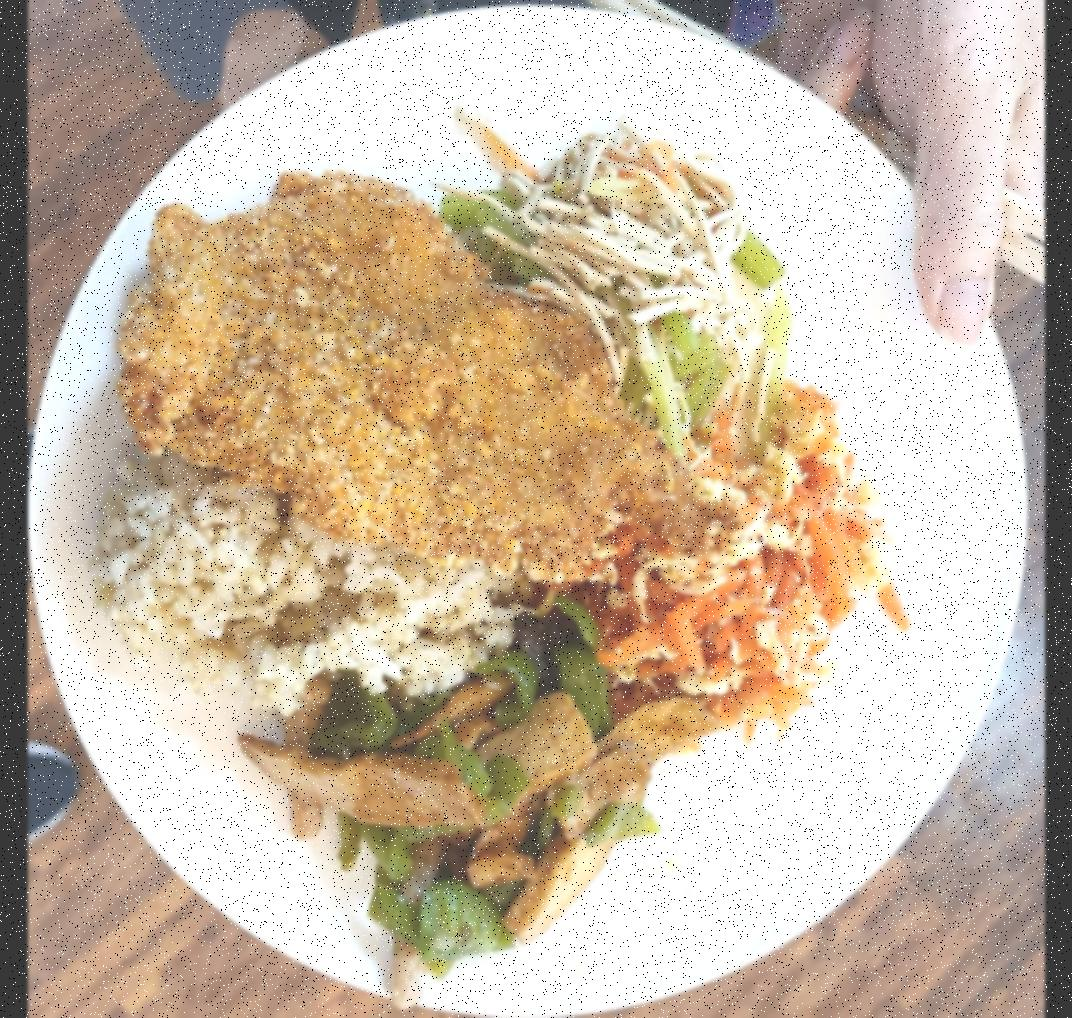big fried chicken leg: (27, 0, 1035, 1018)
box: (98, 470, 510, 700)
braised fish fillet: (233, 614, 672, 982), (449, 119, 800, 414), (604, 389, 897, 728)
braised pork: (129, 167, 657, 590)
